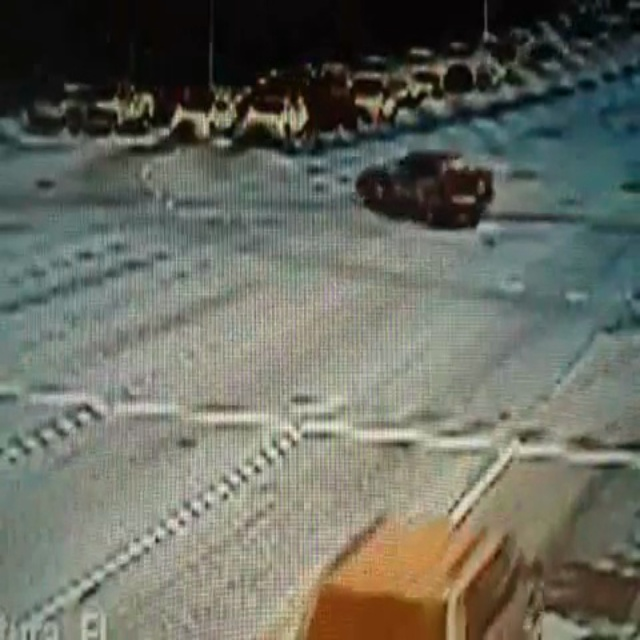acc: (348, 148, 495, 230)
